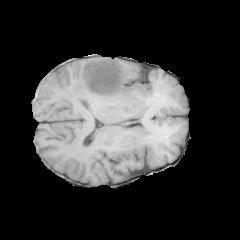glioma: (71, 59, 128, 108)
